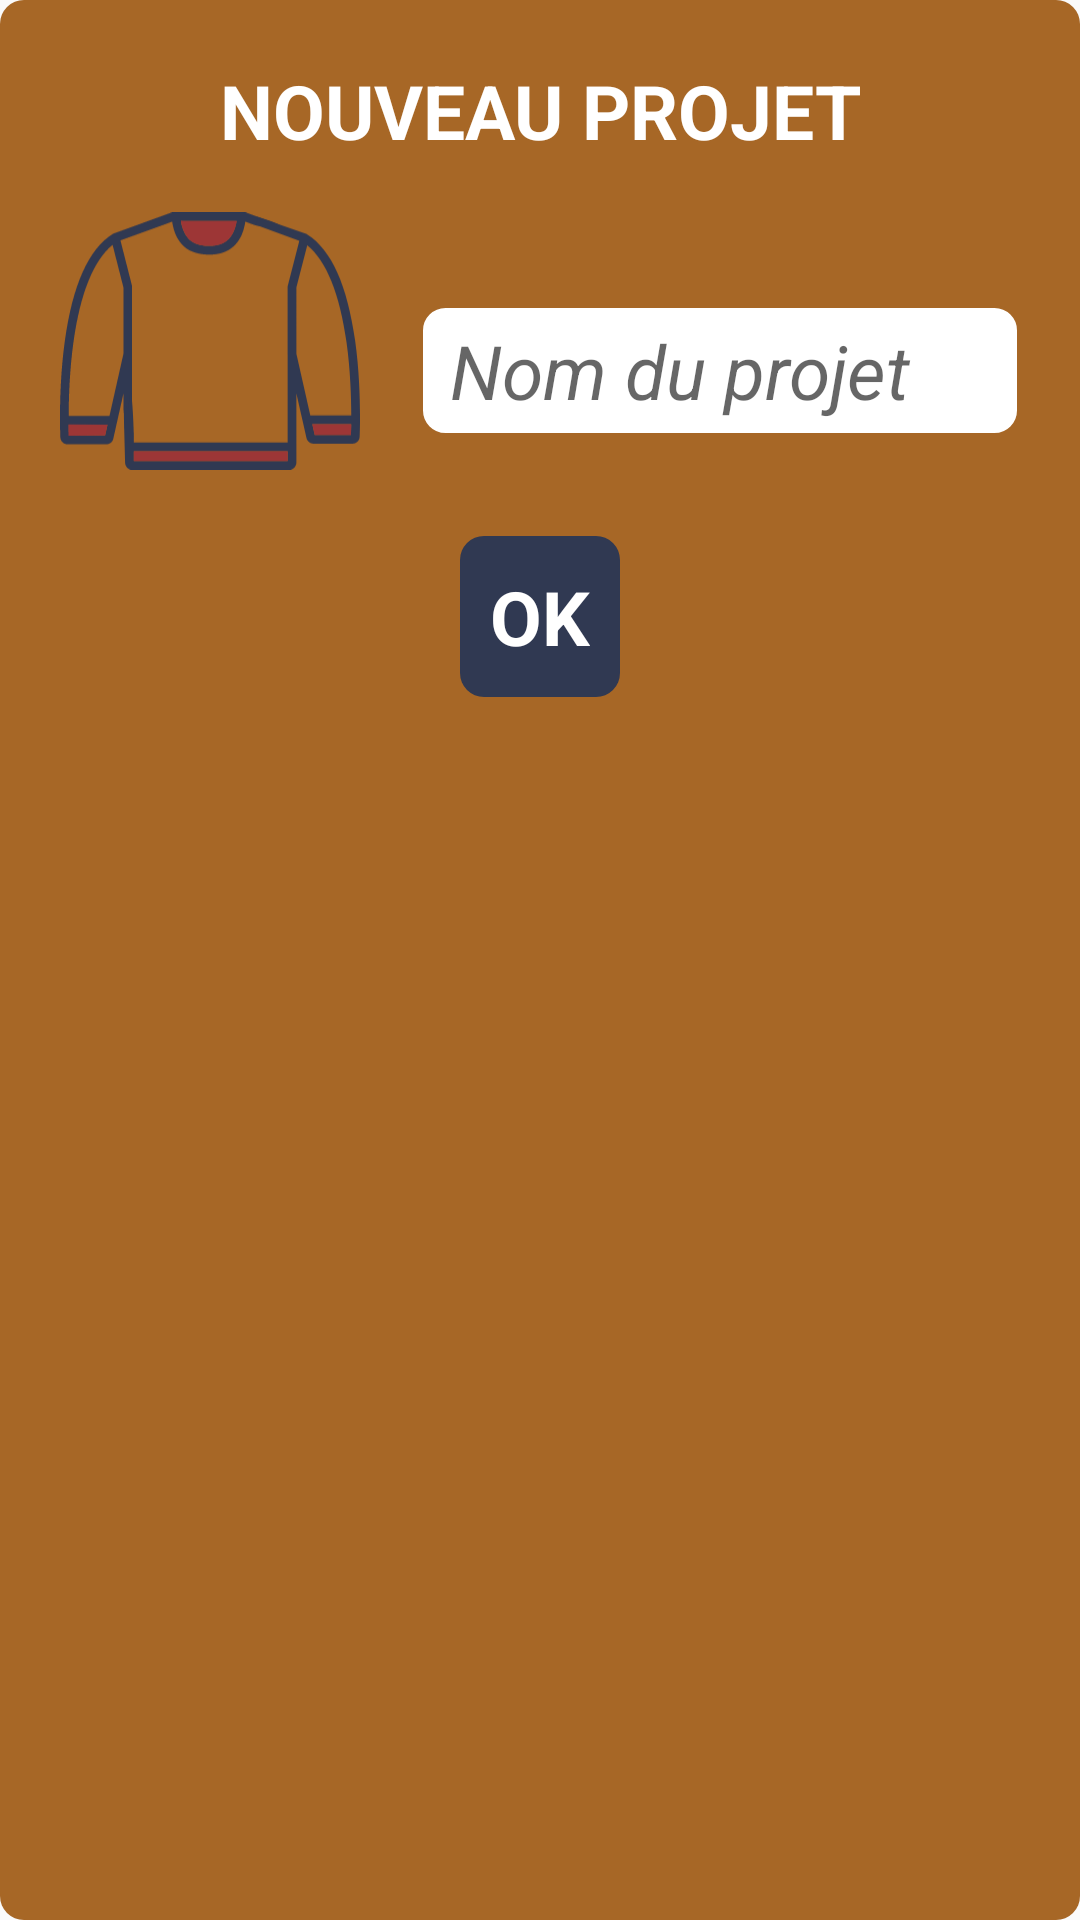

Locate icon controls on the screen. Image size 1080px x 1920px, boxes as BBox(x1, y1, x2, y2).
tricot: BBox(60, 212, 360, 470)
